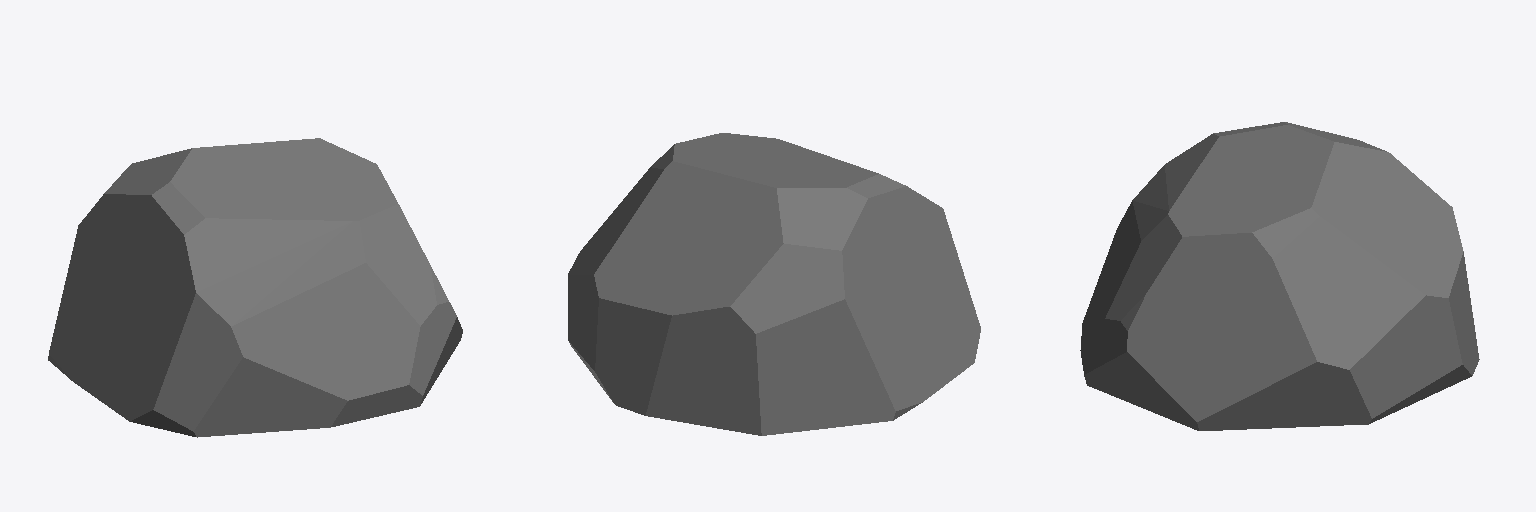
The model's file is rock.obj.
3 views of the same model, side by side, from view 1: azimuth 30°, elevation 25°; view 2: azimuth 150°, elevation 25°; view 3: azimuth 270°, elevation 25° (orthographic).
Parts seen in each view (by area): view 1: CubeFBXASC046001; view 2: CubeFBXASC046001; view 3: CubeFBXASC046001.
Part boxes in pixels (x1,y1,x2,y2): CubeFBXASC046001: (48, 138, 462, 437); CubeFBXASC046001: (568, 133, 980, 435); CubeFBXASC046001: (1080, 122, 1479, 430).
Bounding box in the file's own units: 0.5228 × 0.2854 × 0.5337.